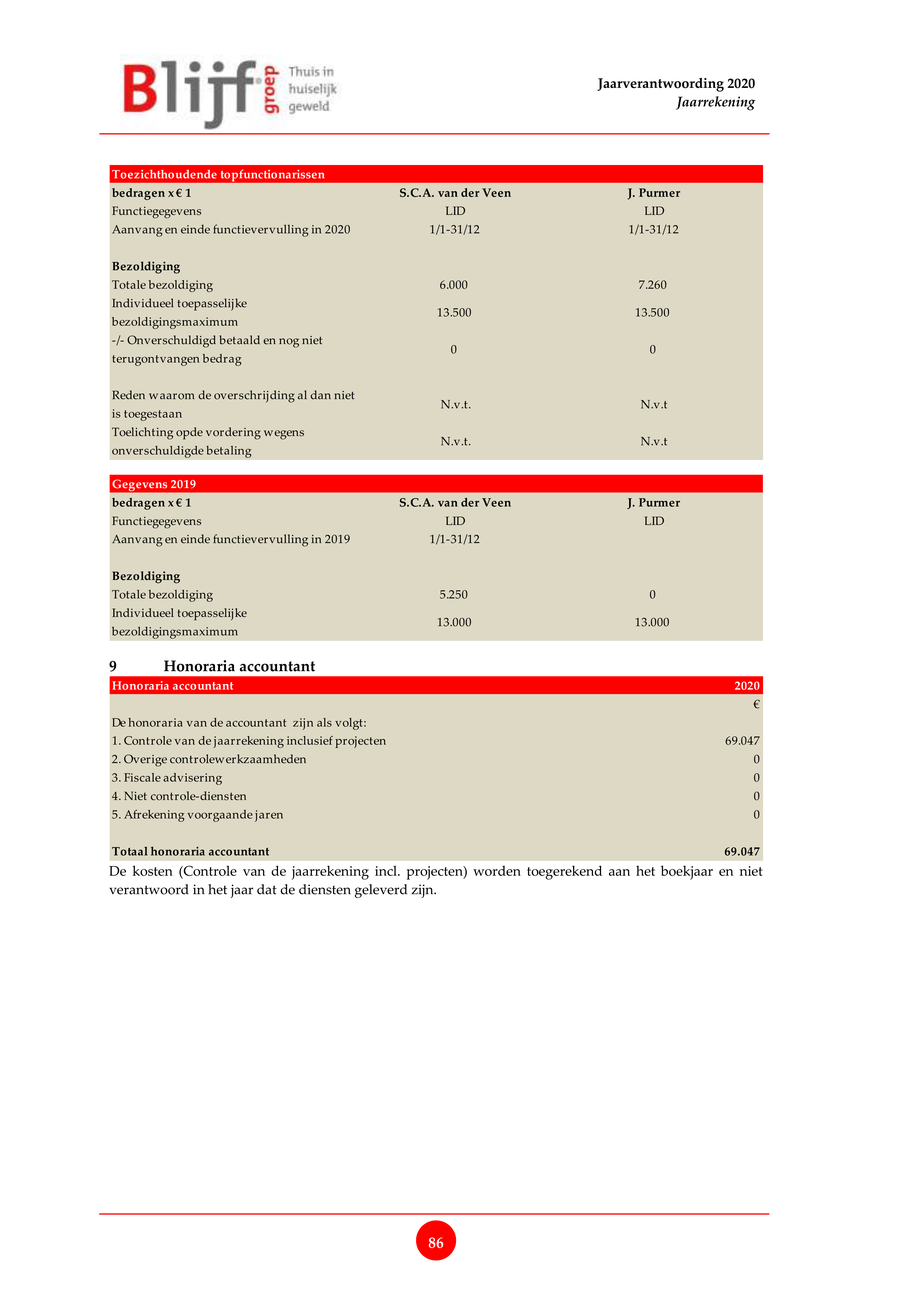coulmn: (111, 187, 370, 460), (111, 717, 396, 859), (111, 498, 368, 641), (386, 184, 519, 458), (617, 185, 709, 457), (393, 495, 524, 640), (618, 497, 692, 640), (715, 694, 767, 861)
